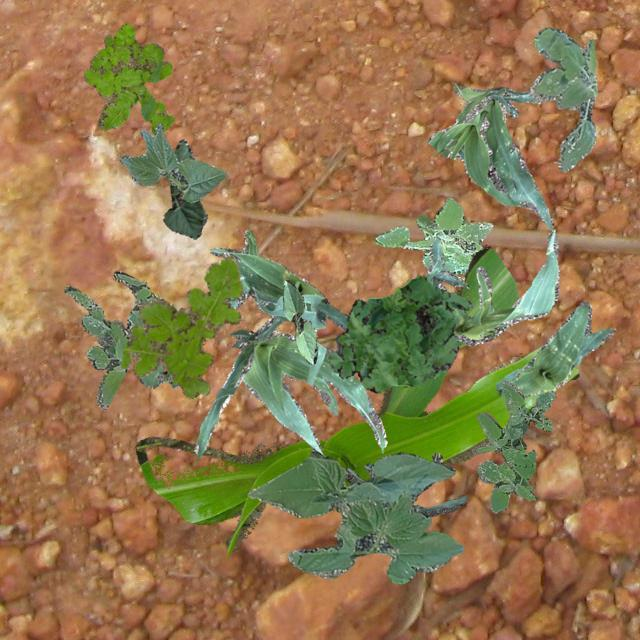crop: (135, 248, 578, 554), (246, 452, 464, 582), (192, 314, 386, 458), (427, 82, 552, 230), (424, 228, 558, 344), (210, 228, 348, 330), (494, 300, 614, 396), (308, 450, 466, 516), (118, 122, 224, 202), (162, 138, 206, 238), (282, 280, 316, 362), (136, 362, 178, 388)
weed: (120, 255, 242, 398), (324, 274, 470, 392), (64, 270, 162, 408), (472, 379, 554, 512), (82, 22, 174, 134), (528, 26, 596, 170), (374, 196, 492, 272)
